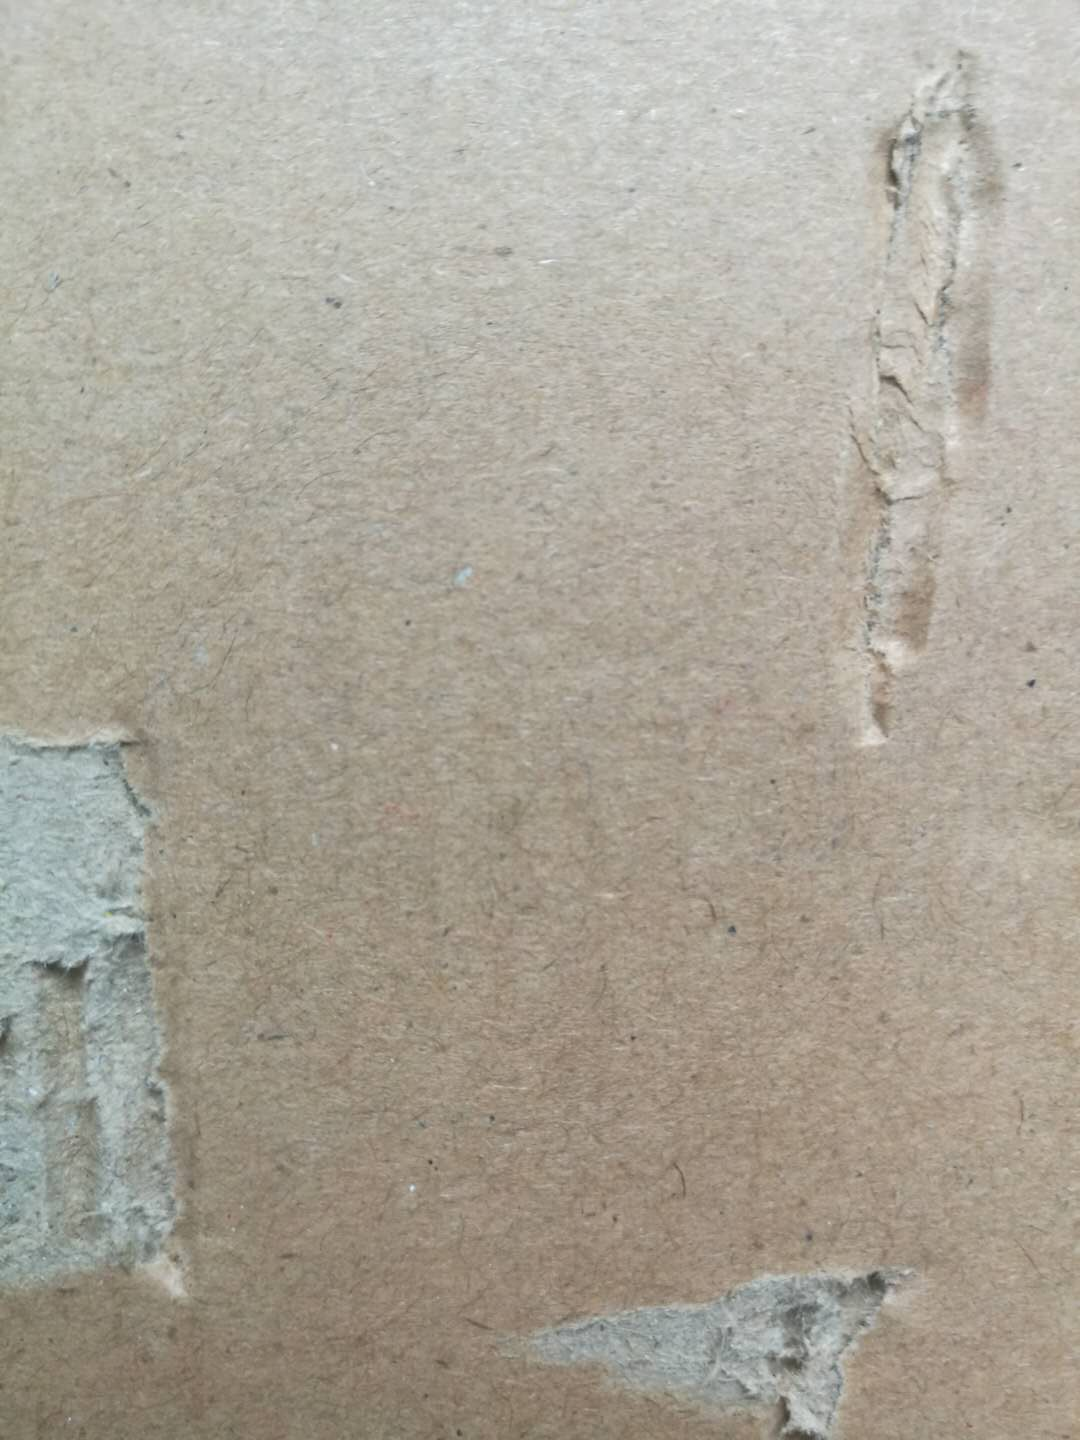defect: (763, 25, 1057, 801), (3, 667, 265, 1359), (480, 1240, 982, 1438)
